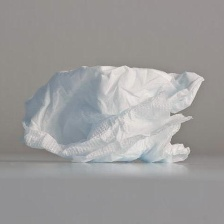tissue: (14, 57, 208, 172)
